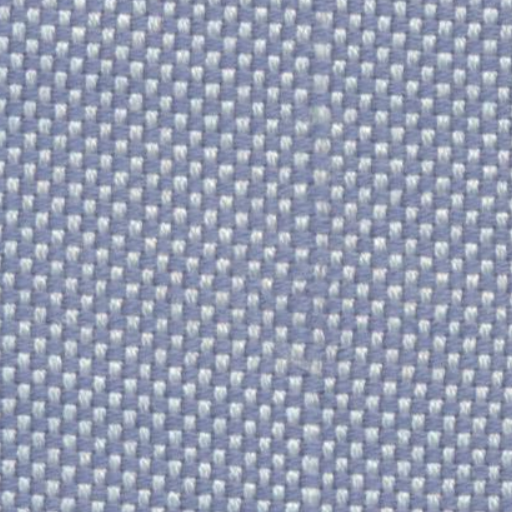TuoSha: (272, 18, 344, 498)
